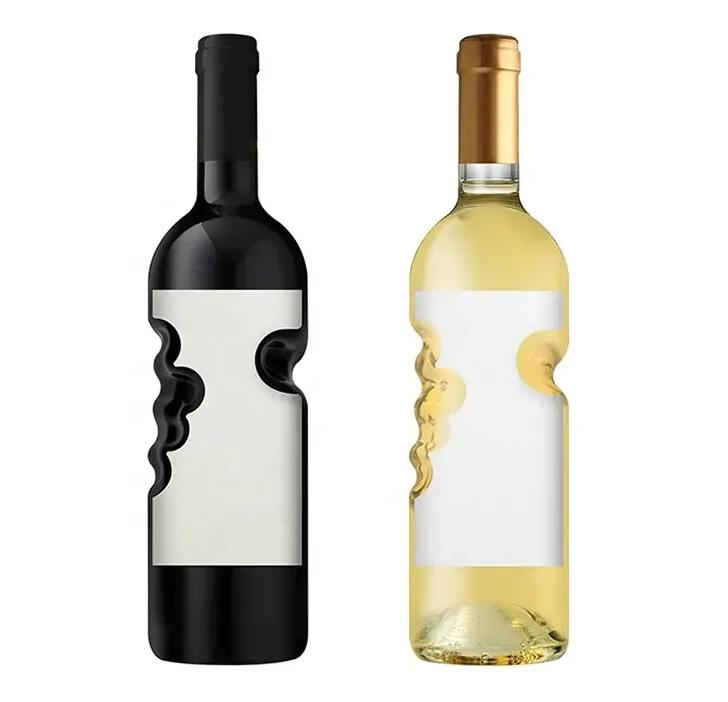wine bottle: (406, 31, 572, 664), (146, 34, 311, 666)
wine label: (151, 289, 302, 568), (413, 289, 564, 564)
